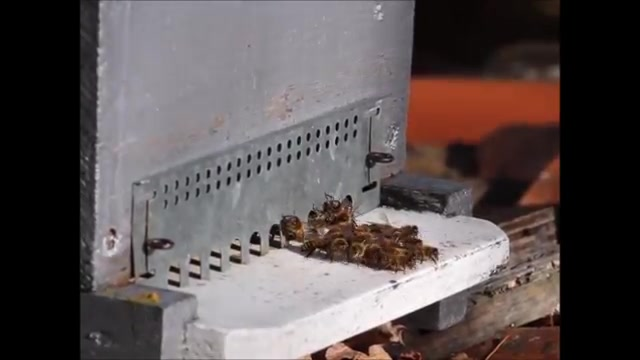bee: (310, 202, 350, 236), (372, 238, 411, 267), (359, 221, 419, 239), (302, 241, 335, 260), (349, 238, 372, 264), (414, 241, 445, 259), (288, 218, 308, 238)
